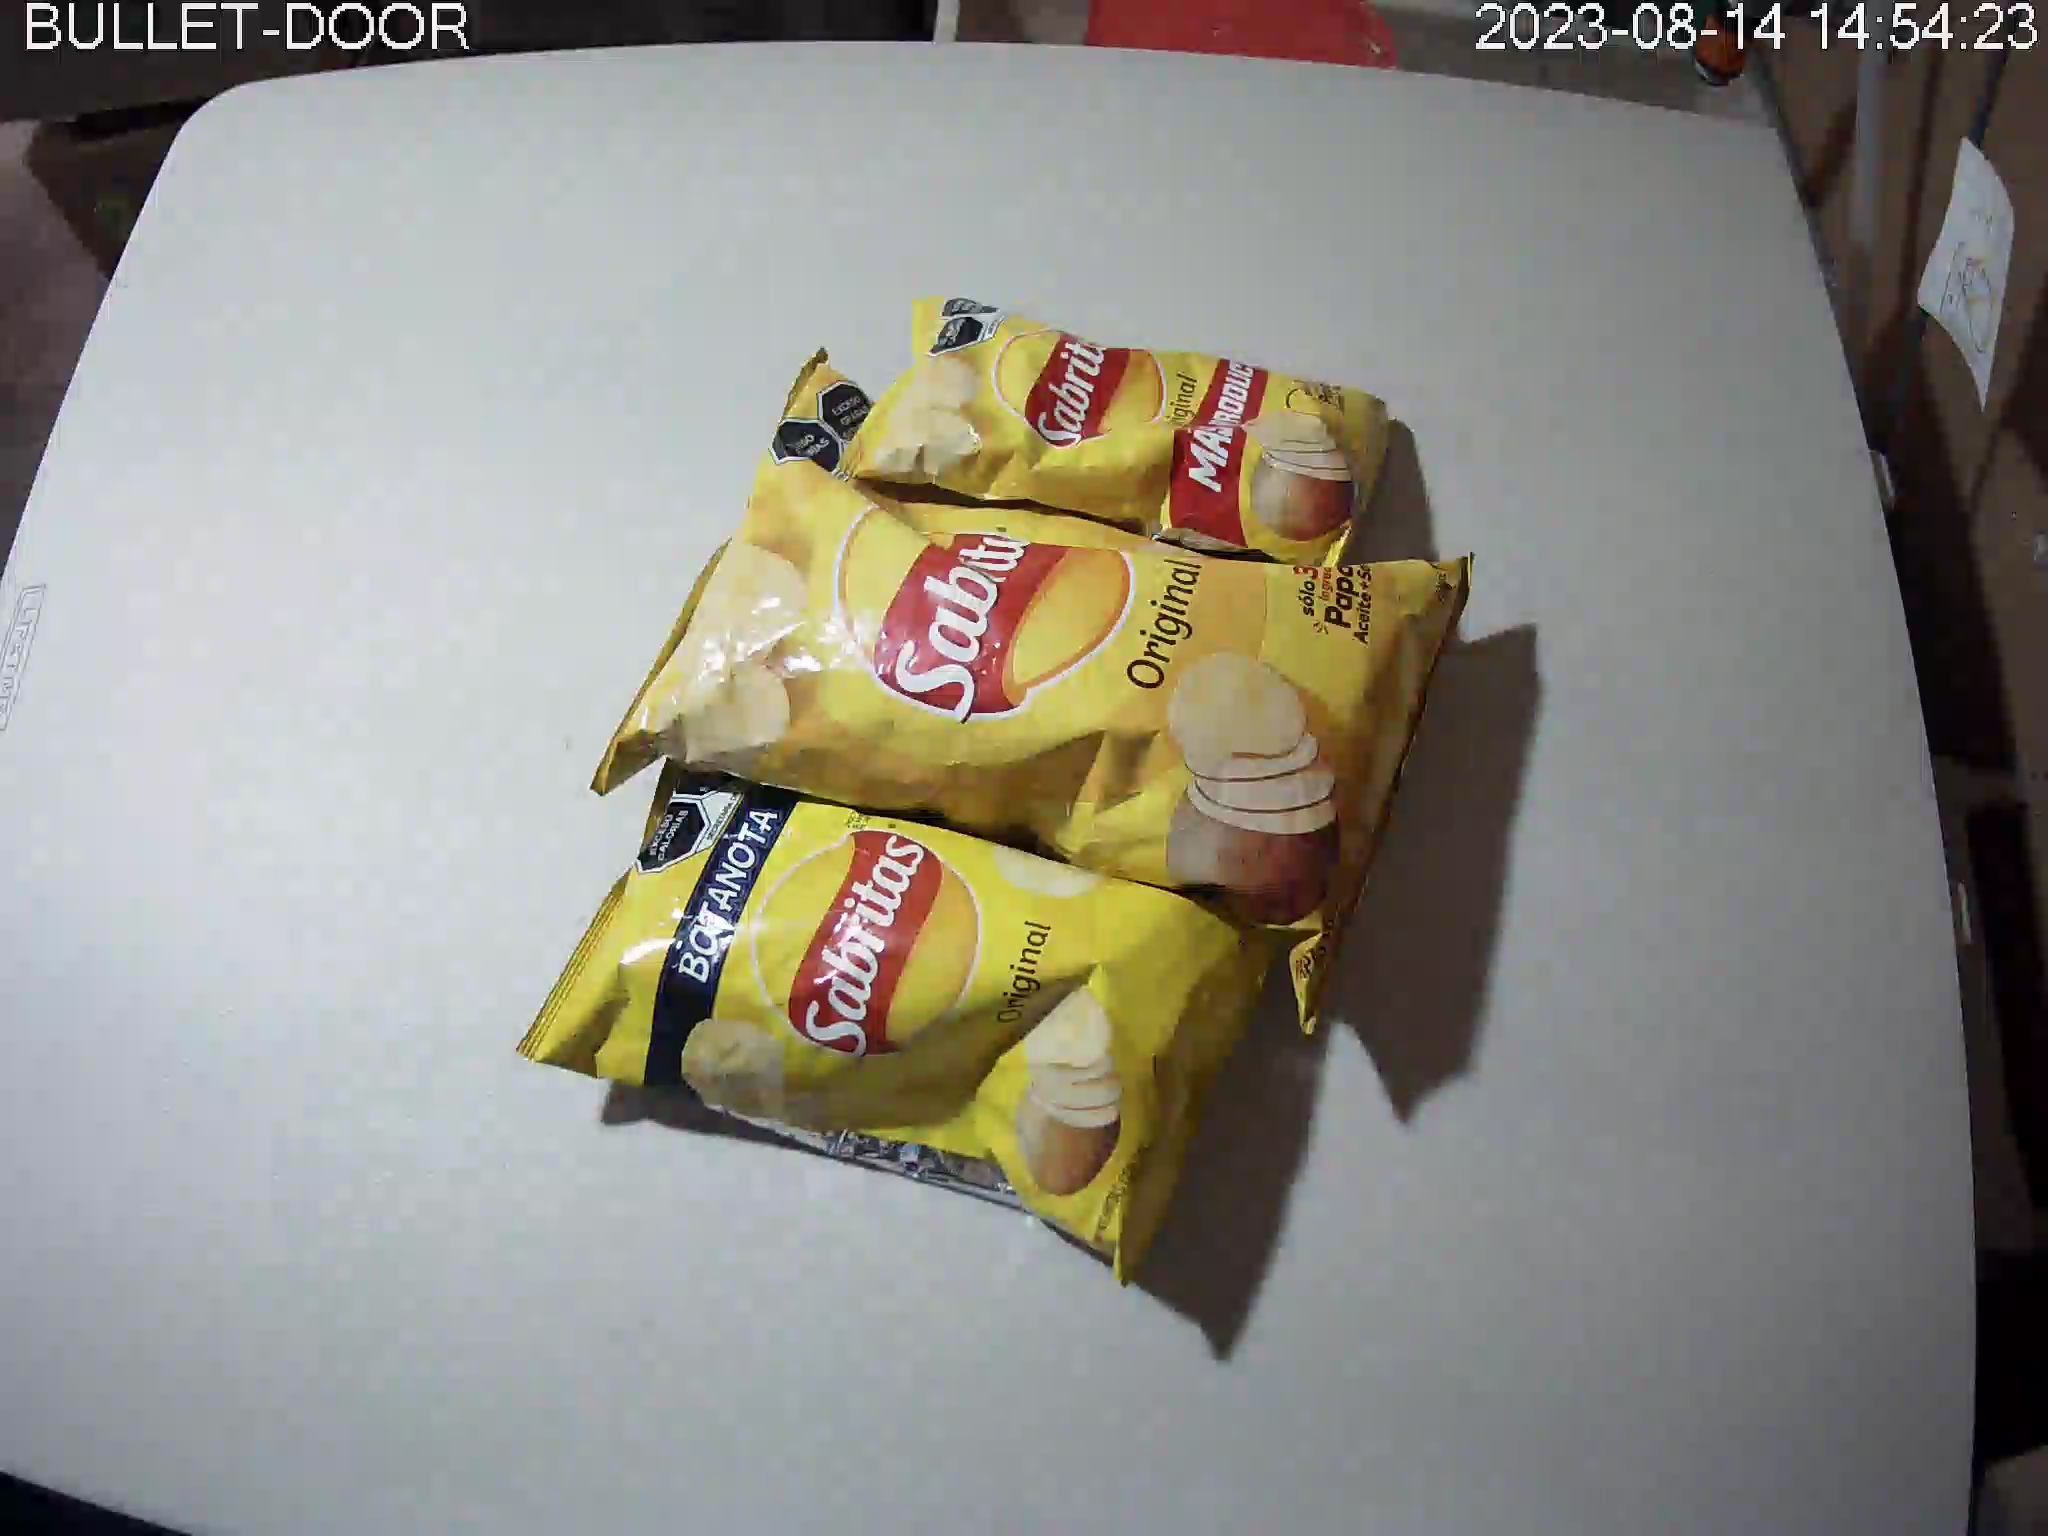Sabritas_160_F: (589, 345, 1480, 1034)
Sabritas_45_F: (834, 294, 1397, 587)
Sabritas_64_F: (513, 741, 1292, 1288)
